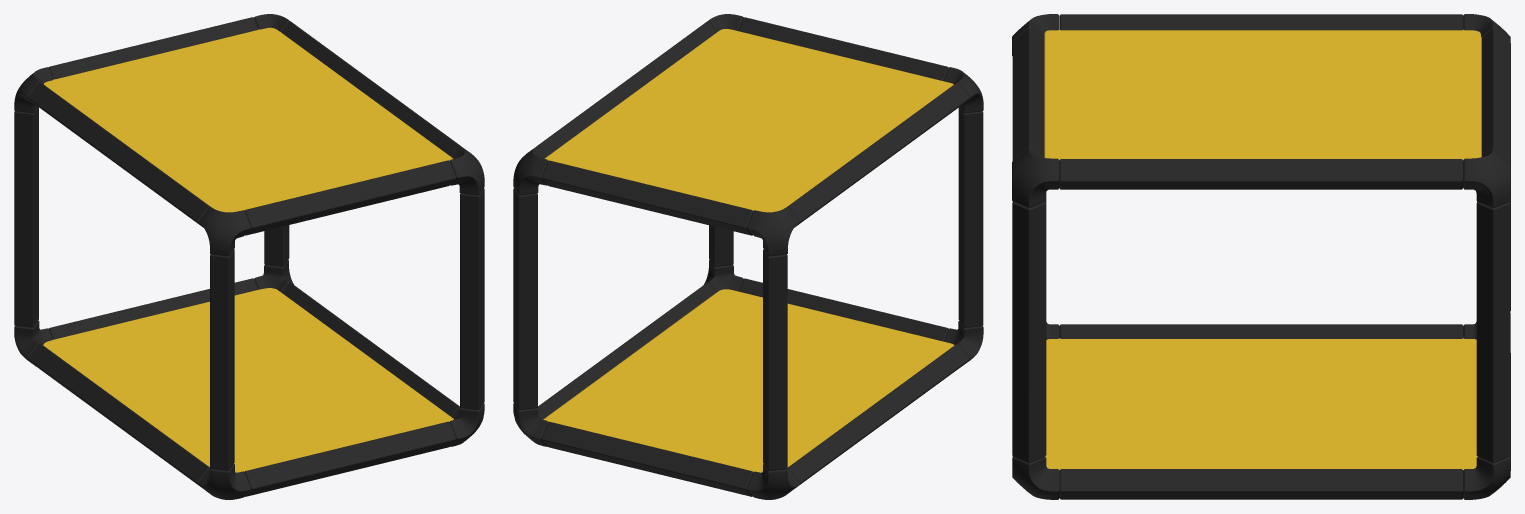
The picture shows the model from 3 angles, left to right: view 1: azimuth 30°, elevation 25°; view 2: azimuth 150°, elevation 25°; view 3: azimuth 270°, elevation 25°; orthographic projection. The views are drawn at different scales.
Visible parts, largest first — view 1: 229x329x229; view 2: 229x329x229; view 3: 229x329x229.
Boxes of the visible parts, x1,y1,x2,y2 form: 229x329x229: (14, 14, 484, 499); 229x329x229: (513, 14, 983, 499); 229x329x229: (1012, 14, 1510, 499).
Size of the model in its own units: 0.3067 by 0.3067 by 0.4063.
